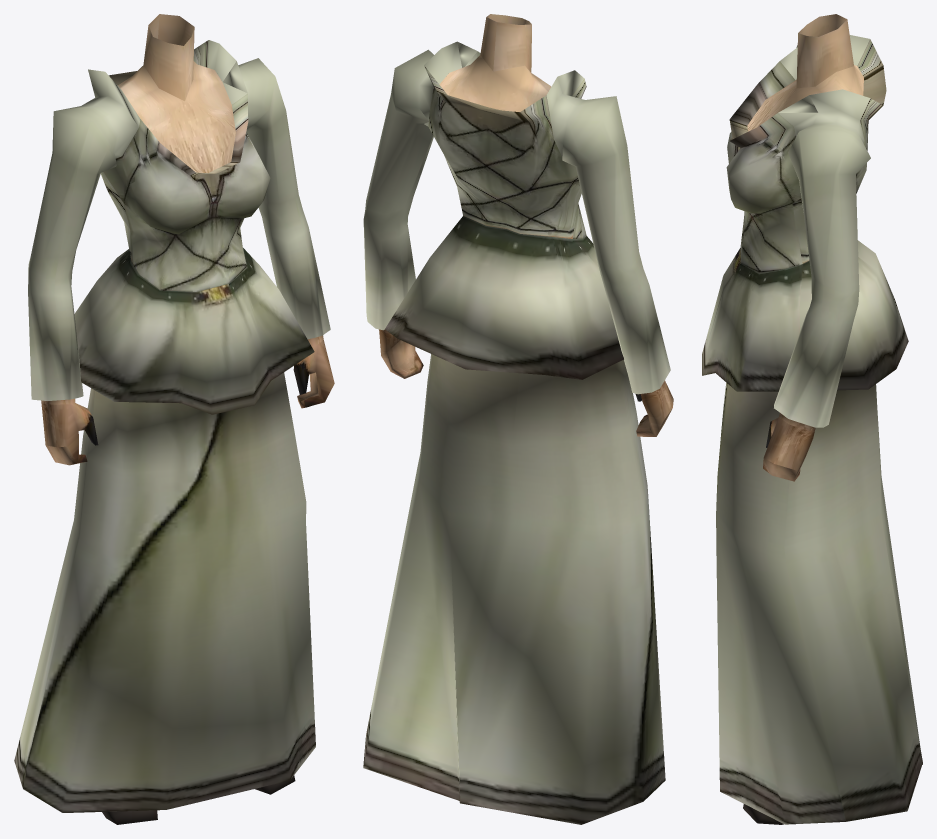
File: ARMOR_KM_VLKBABE_01.glb
3 views of the same model, side by side, from view 1: azimuth 30°, elevation 25°; view 2: azimuth 150°, elevation 25°; view 3: azimuth 270°, elevation 25° (orthographic).
Visible parts, largest first — view 1: ARMOR_KM_VLKBABE_01; view 2: ARMOR_KM_VLKBABE_01; view 3: ARMOR_KM_VLKBABE_01.
Part boxes in pixels (<box>): ARMOR_KM_VLKBABE_01: <box>14,14,334,824</box>; ARMOR_KM_VLKBABE_01: <box>363,14,673,824</box>; ARMOR_KM_VLKBABE_01: <box>702,14,922,824</box>.
Bounding box in the file's own units: 0.6681 × 1.68 × 0.4406.
Materials: 2 (2 with a texture image).
